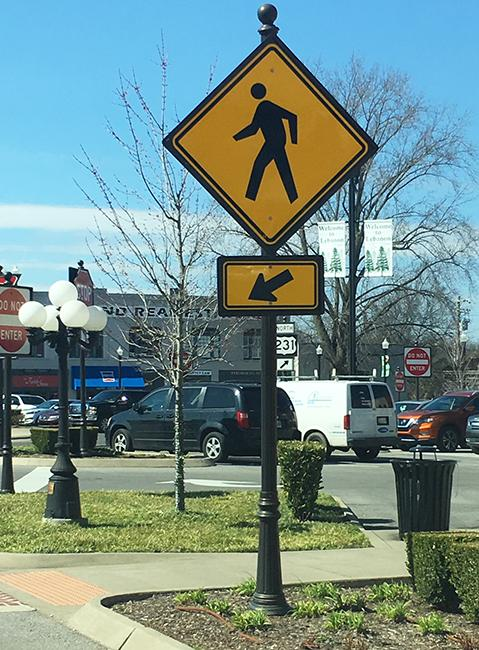car: (91, 374, 317, 476), (257, 378, 411, 463), (386, 377, 479, 448)
traffic sign: (147, 4, 395, 612)
trash bin: (386, 451, 466, 548)
